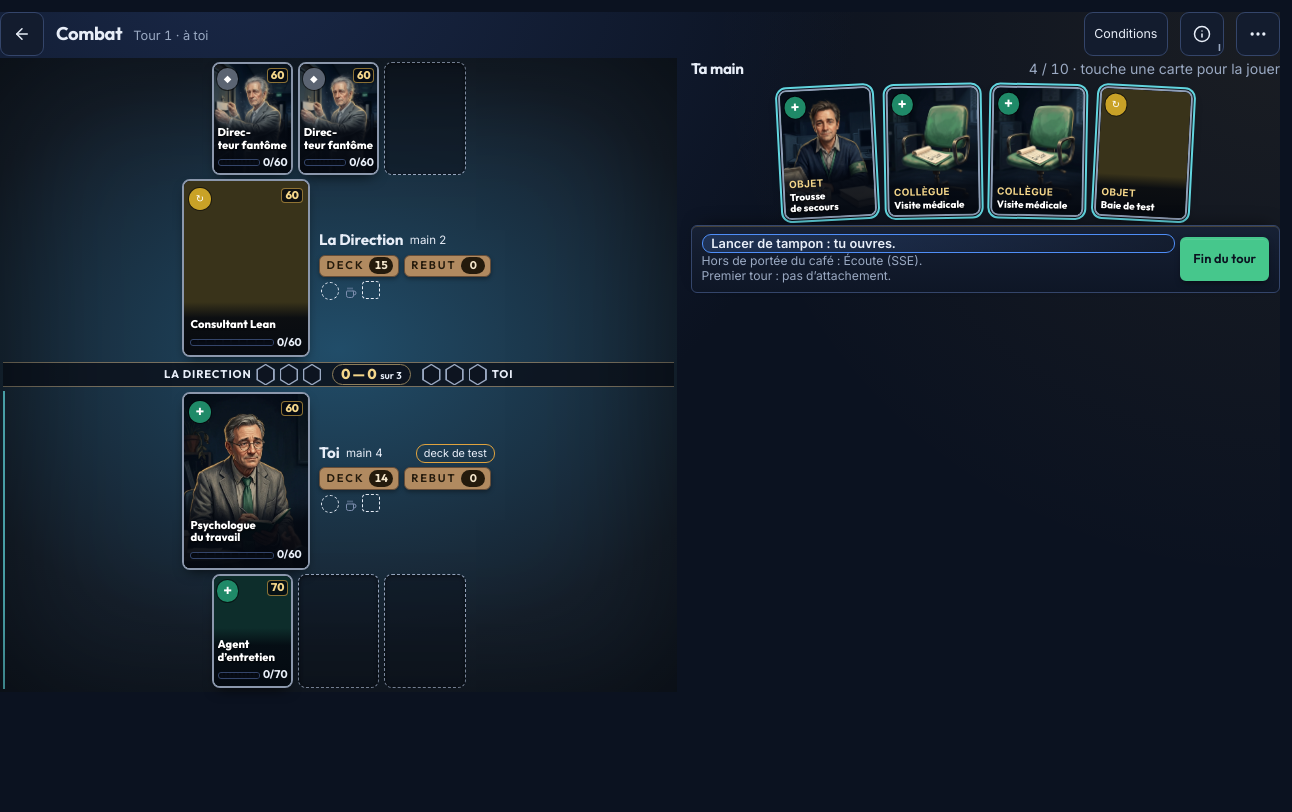
Test: Battle — écran de combat › le bouton `⋯` ouvre et ferme le menu
Click the button named "Menu du combat" at coordinates (1258, 34), box left=1236, top=12, right=1280, bottom=56
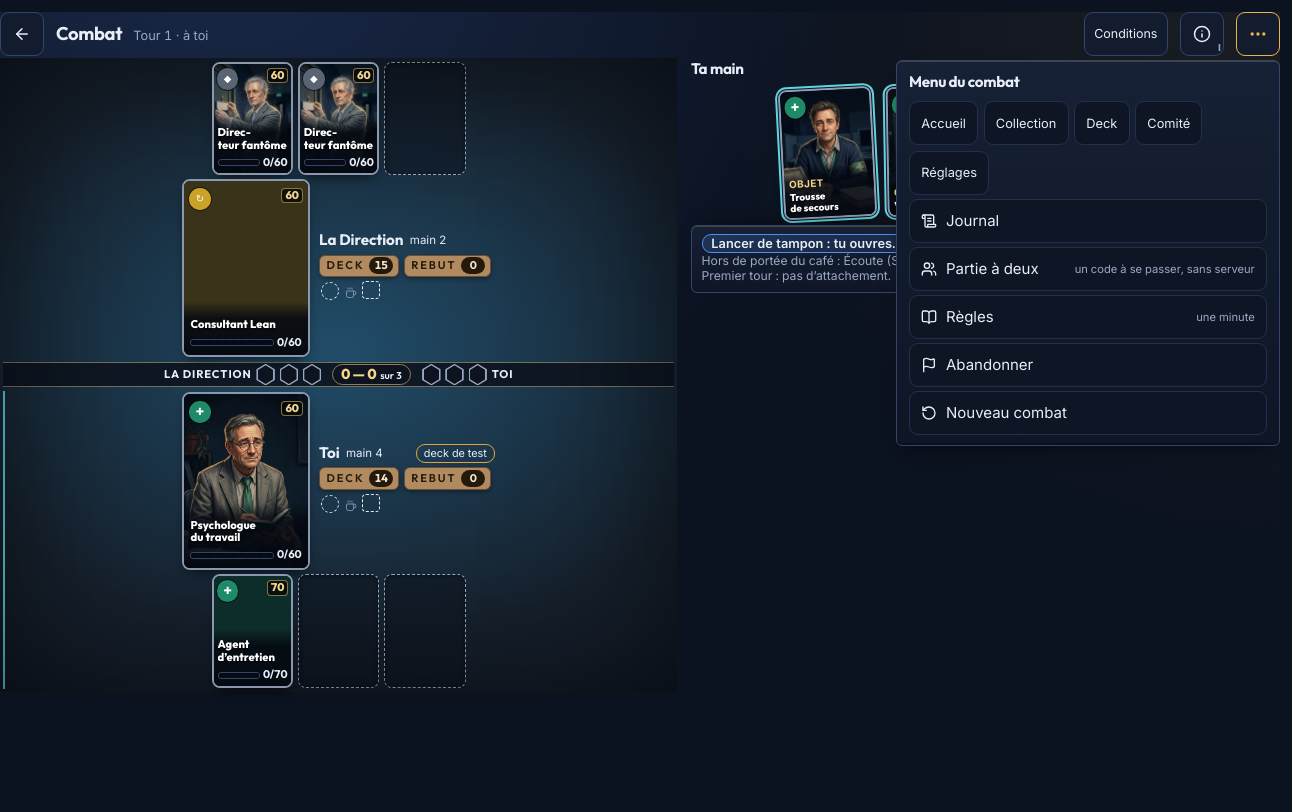
Check: the button named "Menu du combat" is expanded
Click the button named "Menu du combat" at coordinates (1258, 34), box left=1236, top=12, right=1280, bottom=56
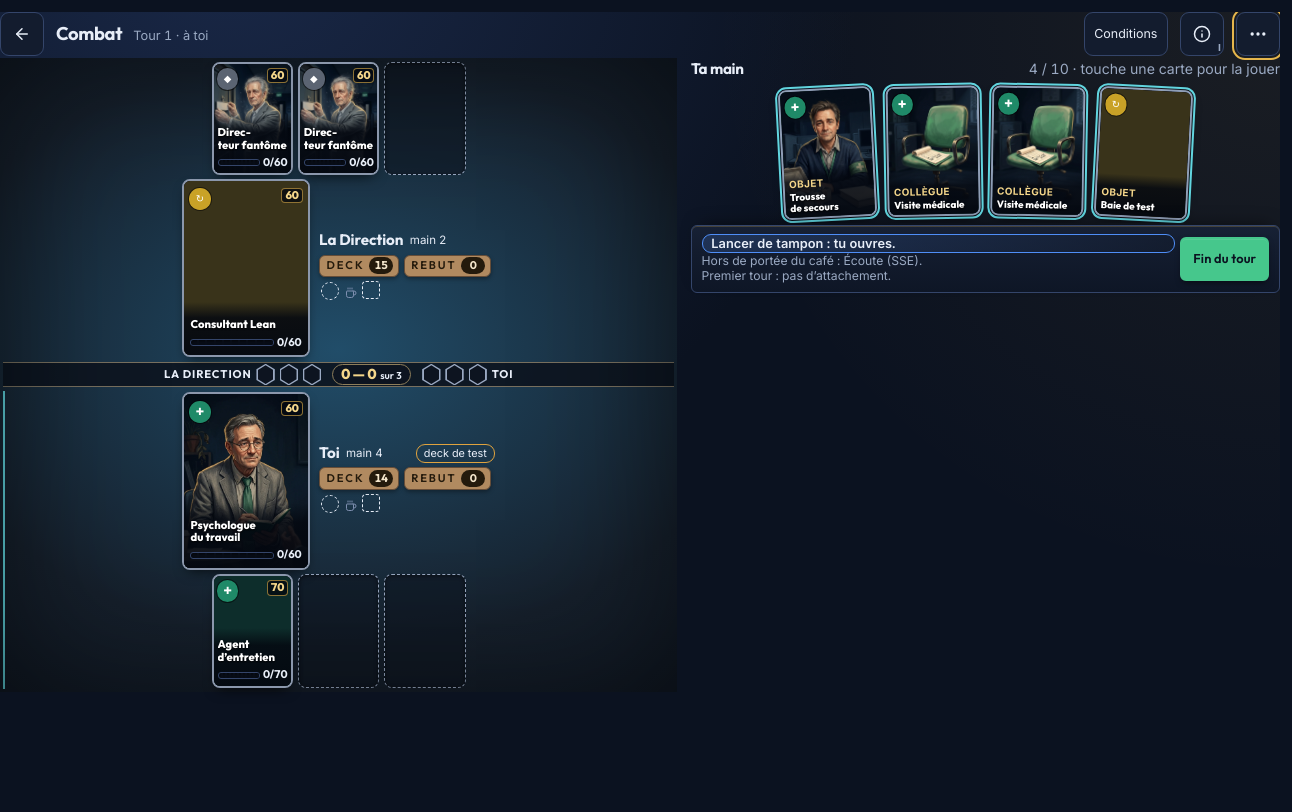
Check: the button named "Menu du combat" is collapsed, box left=1236, top=12, right=1280, bottom=56
